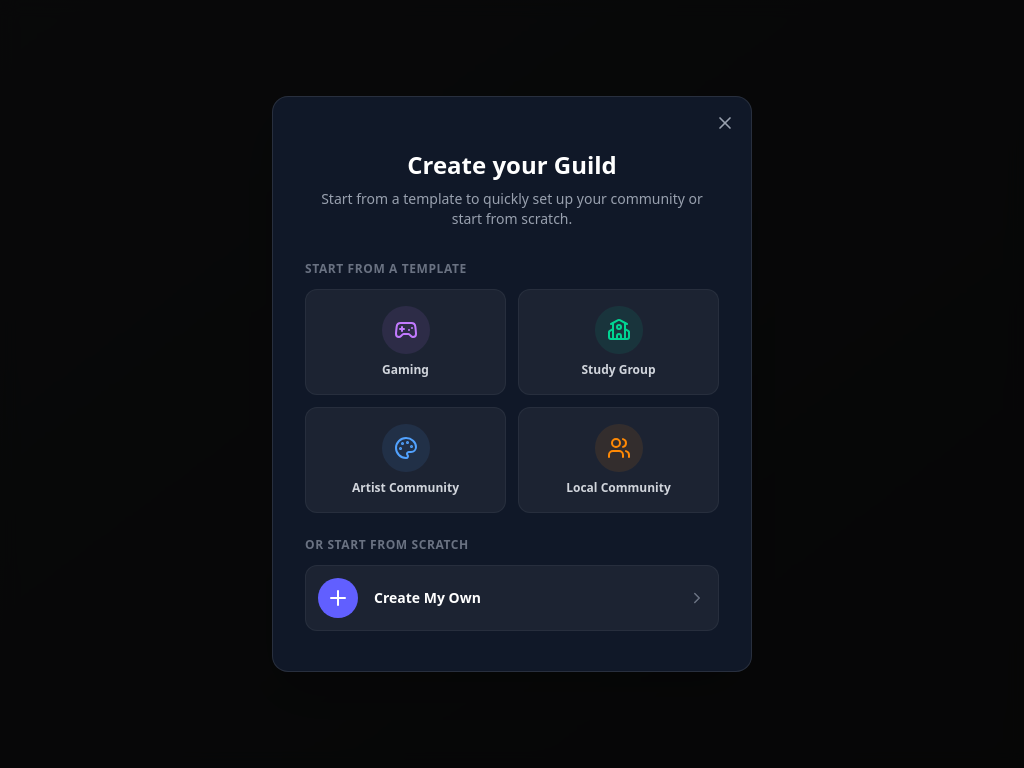
Test case: CreateGuildModal › returns to templates when "Back" is clicked
The width and height of the screenshot is (1024, 768).
Click the button "Create My Own". click: x=338, y=598
box: x1=305 y1=565 x2=719 y2=631
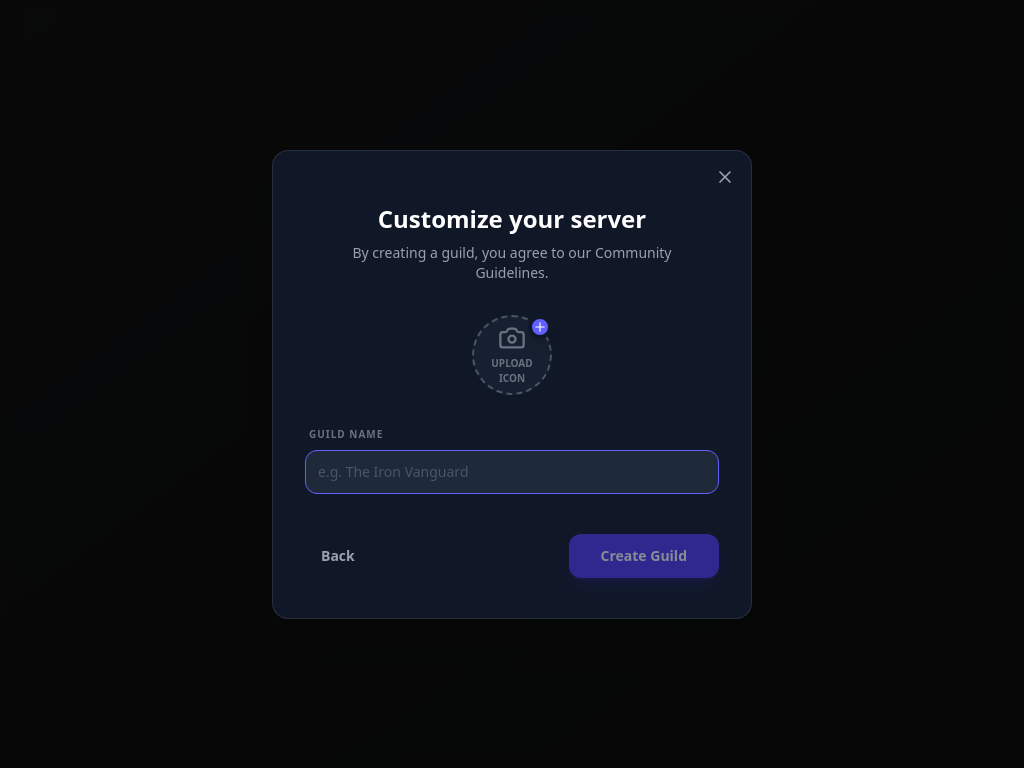
Click the button "Back". click: x=338, y=556
box: x1=305 y1=538 x2=371 y2=574
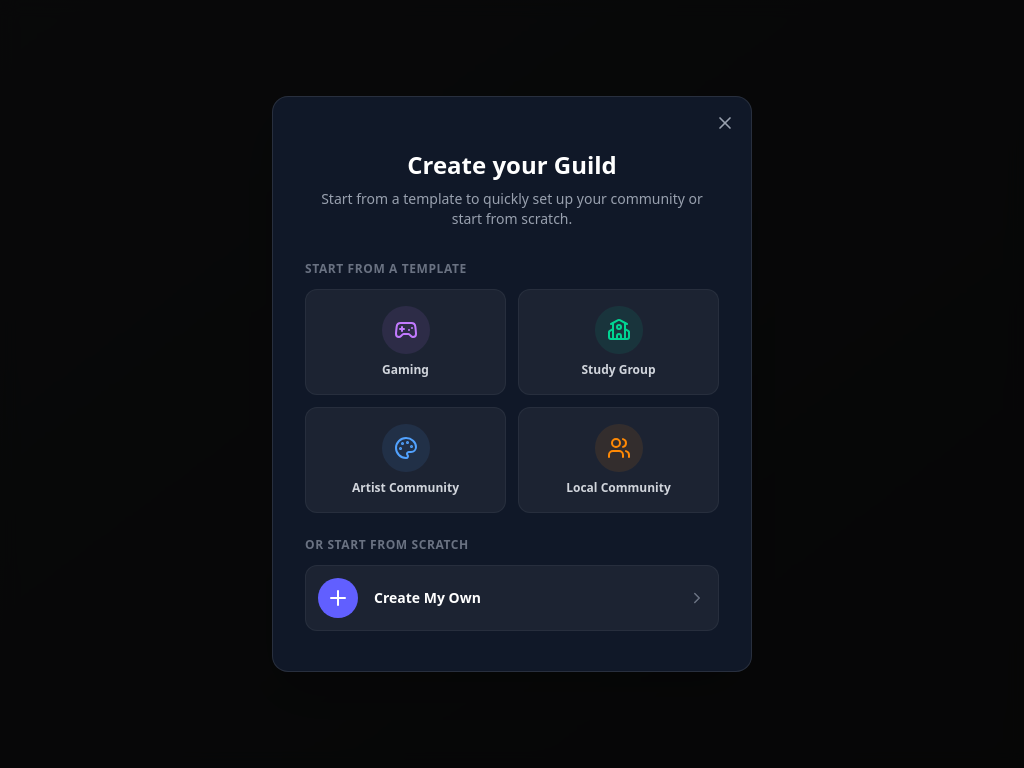
Result: the heading "Create your Guild" is shown at x1=407 y1=148 x2=617 y2=181
